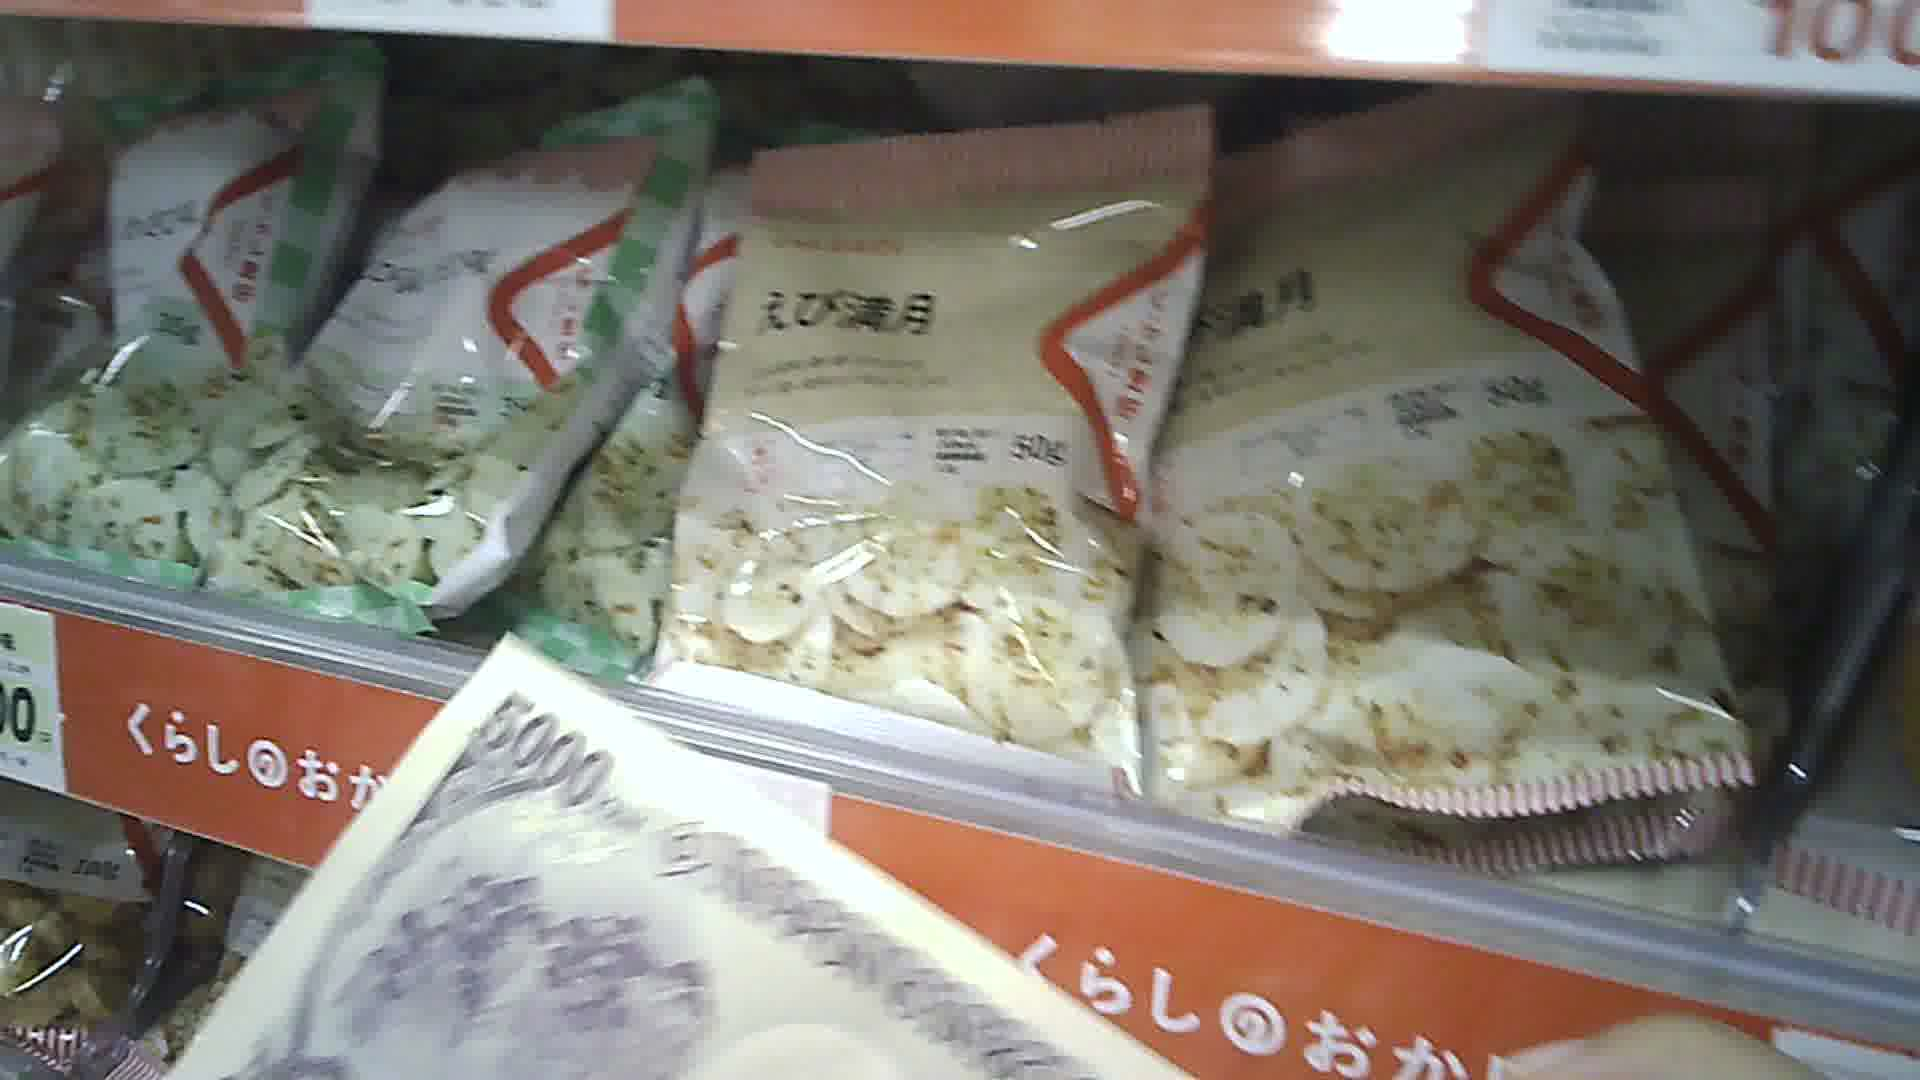5,000 Yen: (206, 624, 1149, 1079)
